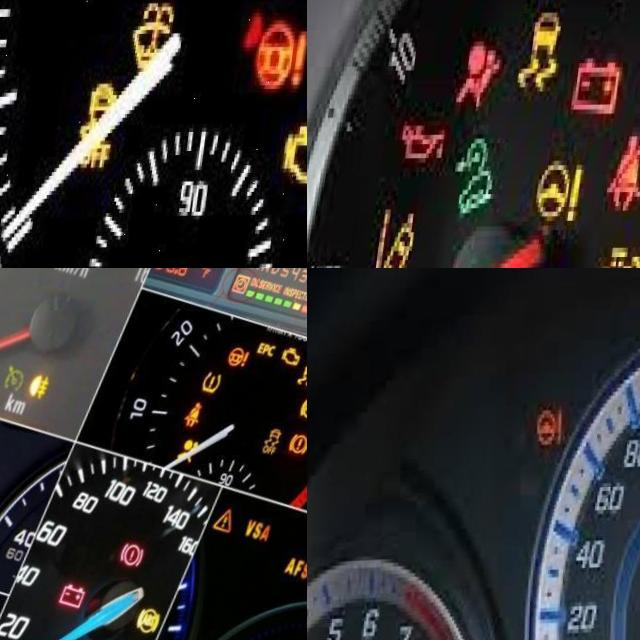Electronic Power Steering: (537, 164, 592, 224), (536, 408, 570, 449)
Electronic Power Steering Warning: (245, 20, 307, 92)
Seat Belt: (611, 137, 640, 208), (193, 403, 210, 429)
Washer Fluid: (126, 5, 184, 76)
